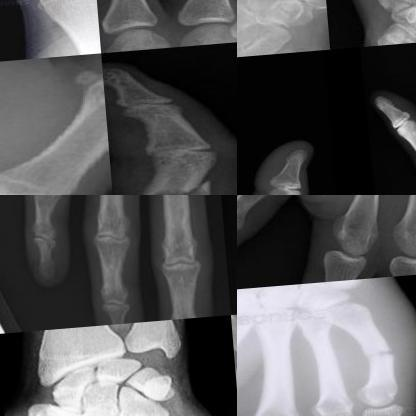fracture: (352, 343, 403, 375), (111, 181, 195, 194)
